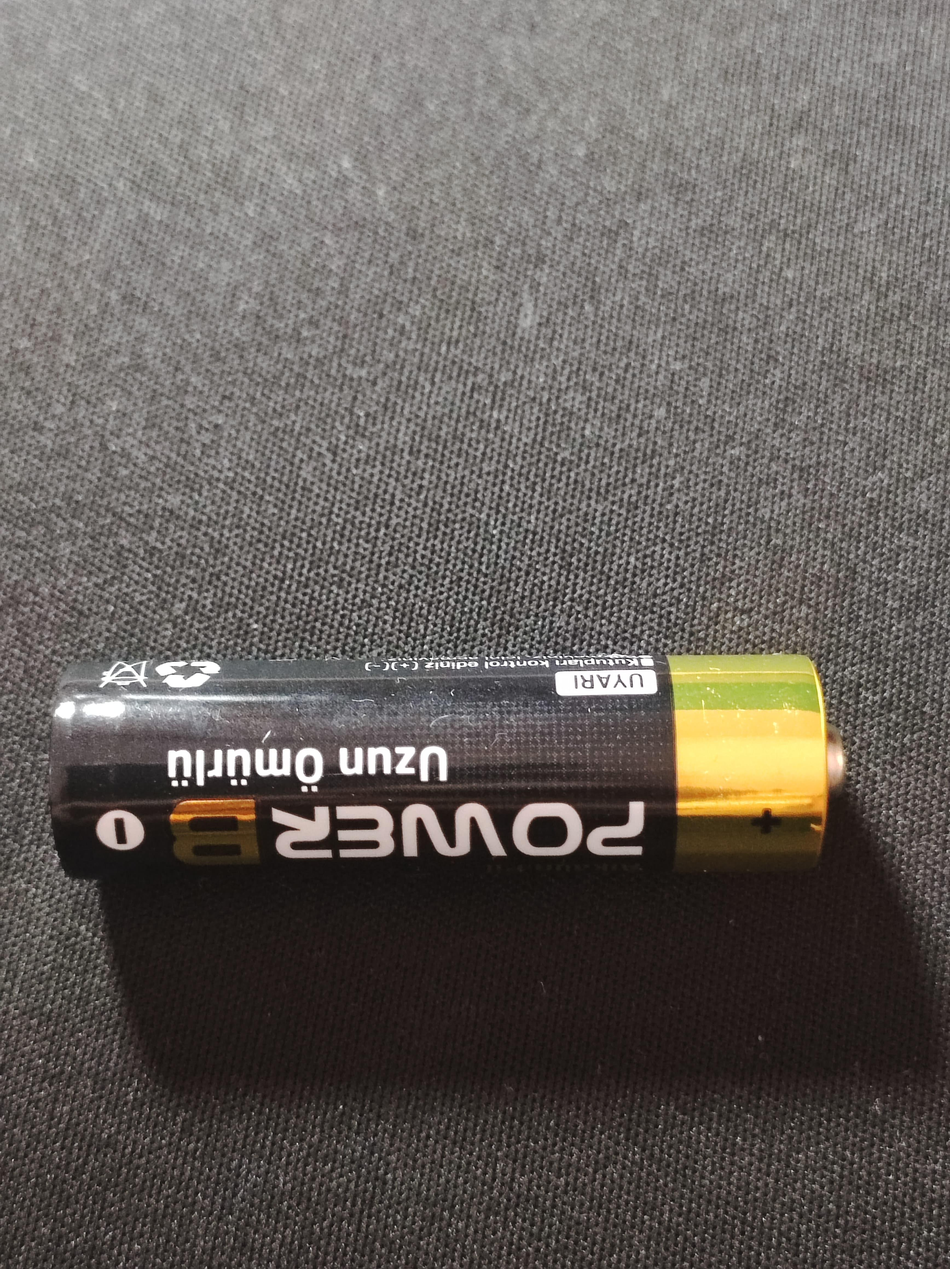AA: (48, 650, 842, 880)
